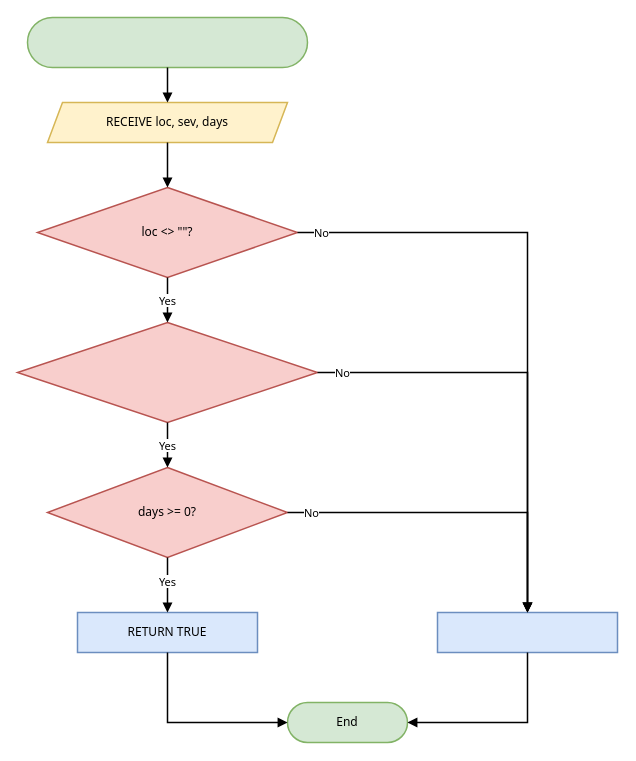
Some shapes in this 636 by 761 pixel diagram are drawn without their labels. The shapes that lost their labels are listed below. From the top down, each one's centre as x and y in pixels, then its label:
pixel 167 42: Start: ValidateReport(loc, sev, days)
pixel 167 372: sev >= 1 AND sev <= MAX_SEVERITY?
pixel 527 632: RETURN FALSE
